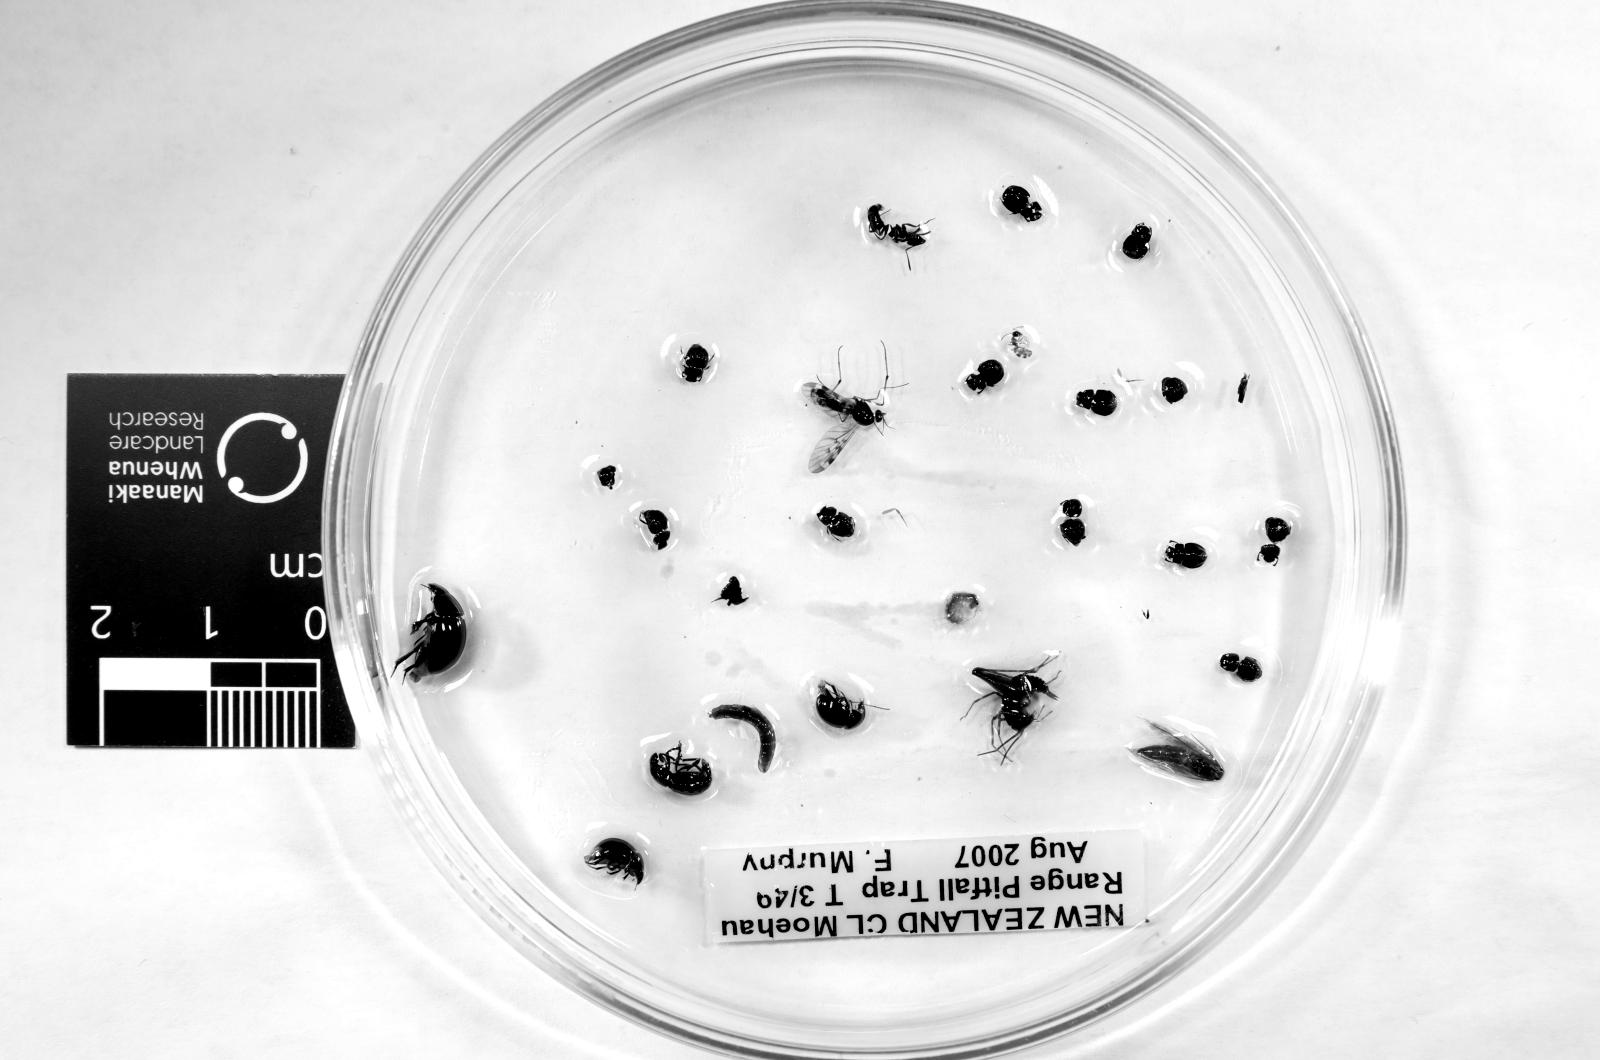amphipoda: (944, 593, 978, 625)
coleoptera: (394, 584, 466, 684), (650, 742, 713, 795), (584, 839, 643, 885), (816, 680, 866, 730), (966, 360, 1006, 394), (1000, 187, 1041, 220), (1075, 388, 1119, 416), (816, 506, 856, 537), (681, 344, 713, 382), (641, 509, 669, 550), (1166, 541, 1206, 568)
diptera: (799, 382, 885, 476), (1132, 720, 1225, 783)
formicidae: (869, 205, 925, 248), (1010, 329, 1031, 357)
opiliones: (1219, 652, 1263, 680), (1060, 500, 1084, 547), (1122, 224, 1149, 258)
orthoptera: (972, 652, 1060, 761)
